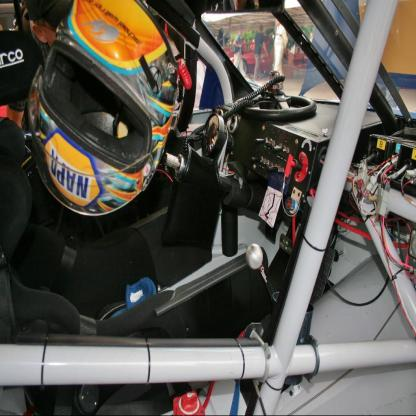Helmet: (22, 26, 192, 238)
